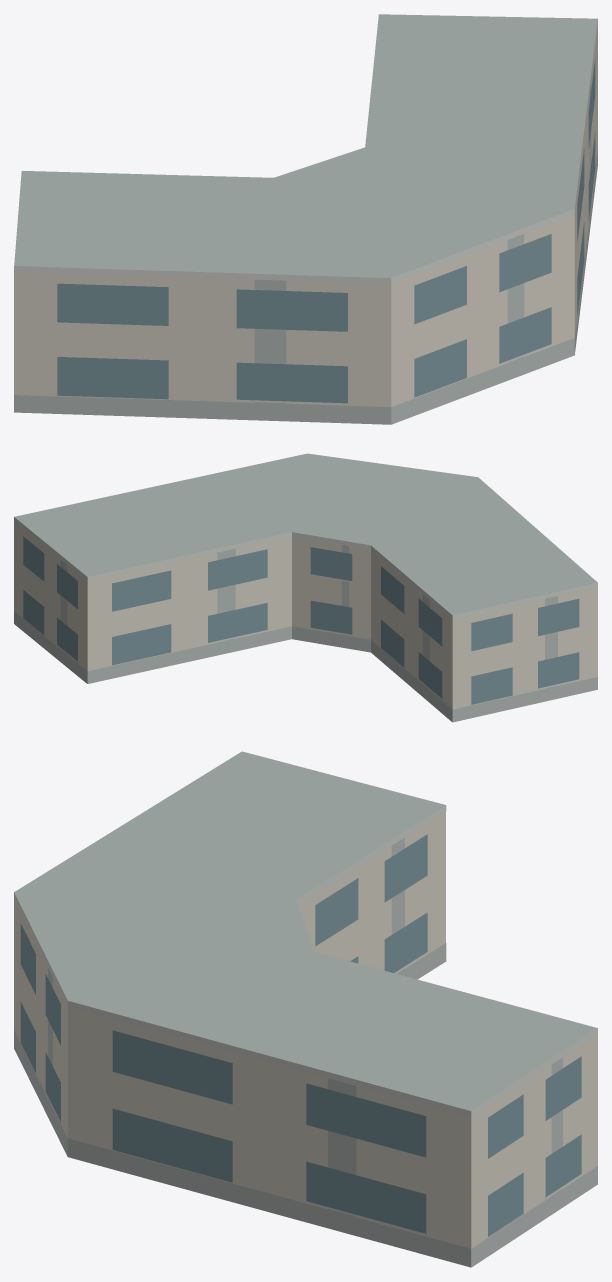
Rendered from survey-upis-32981105.glb.
3 views of the same model, one above another, from view 1: azimuth 30°, elevation 25°; view 2: azimuth 150°, elevation 25°; view 3: azimuth 270°, elevation 25° (orthographic). The views are drawn at different scales.
Visible parts, largest first — view 1: survey-upis-32981105.tmp; view 2: survey-upis-32981105.tmp; view 3: survey-upis-32981105.tmp.
Boxes of the visible parts, box(x1,y1,x2,y2) form: survey-upis-32981105.tmp: box(14, 14, 597, 424); survey-upis-32981105.tmp: box(14, 453, 597, 722); survey-upis-32981105.tmp: box(14, 751, 597, 1267).
Size of the model in its own units: 30.12 by 6.1 by 20.65.
